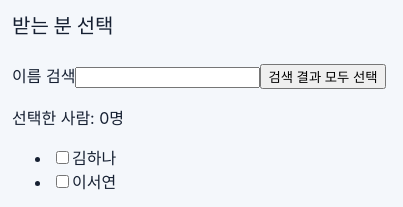
Test: 받는 분 선택 — 공개 테스트 › 이름으로 목록을 검색한다
Type "김" into the field labelled "이름 검색" at (168,78), box [75,67,260,88]
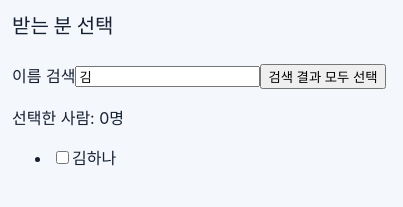
Expected: the checkbox labelled "김하나" is shown, [56,151,69,164]
Expected: the label labelled "이서연" is gone
